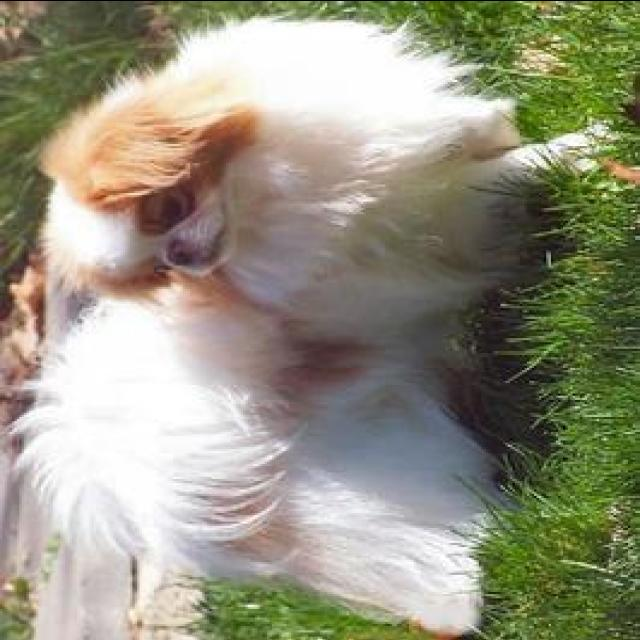husky: (12, 17, 618, 638)
